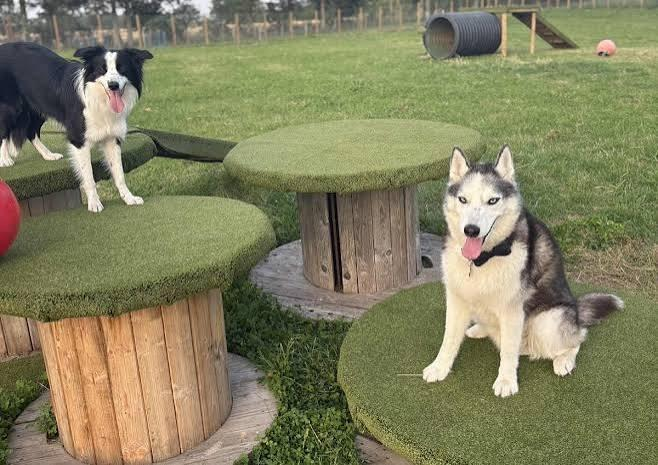adult_dog: (422, 142, 627, 398), (0, 41, 154, 214)
